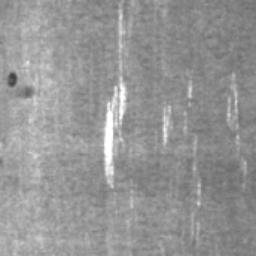White rust: (103, 2, 128, 189), (225, 71, 248, 188), (183, 111, 202, 208), (162, 104, 174, 147), (188, 78, 192, 110)
